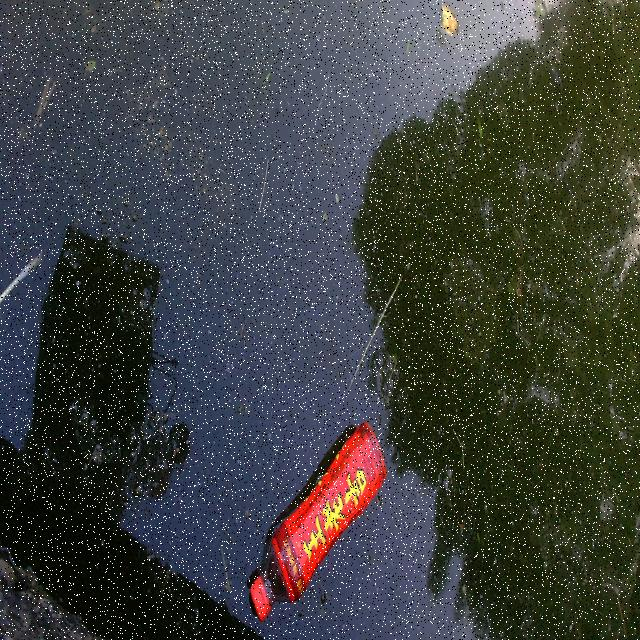Bottle: (246, 420, 388, 625)
